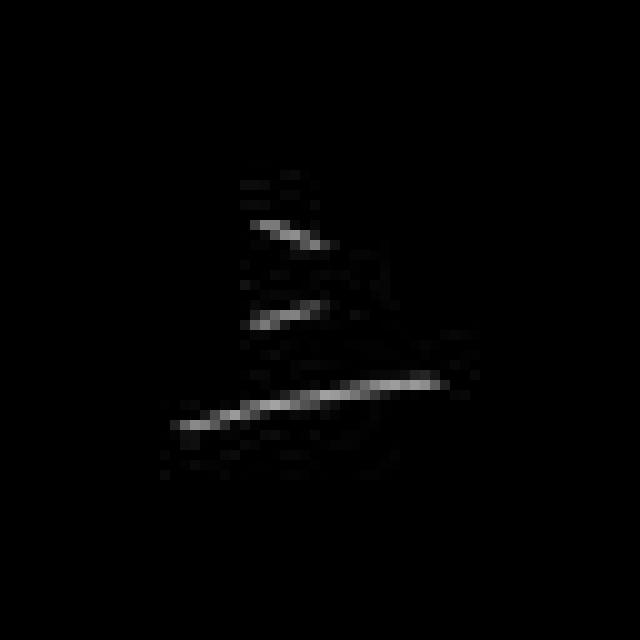3 -three-: (163, 202, 447, 440)
